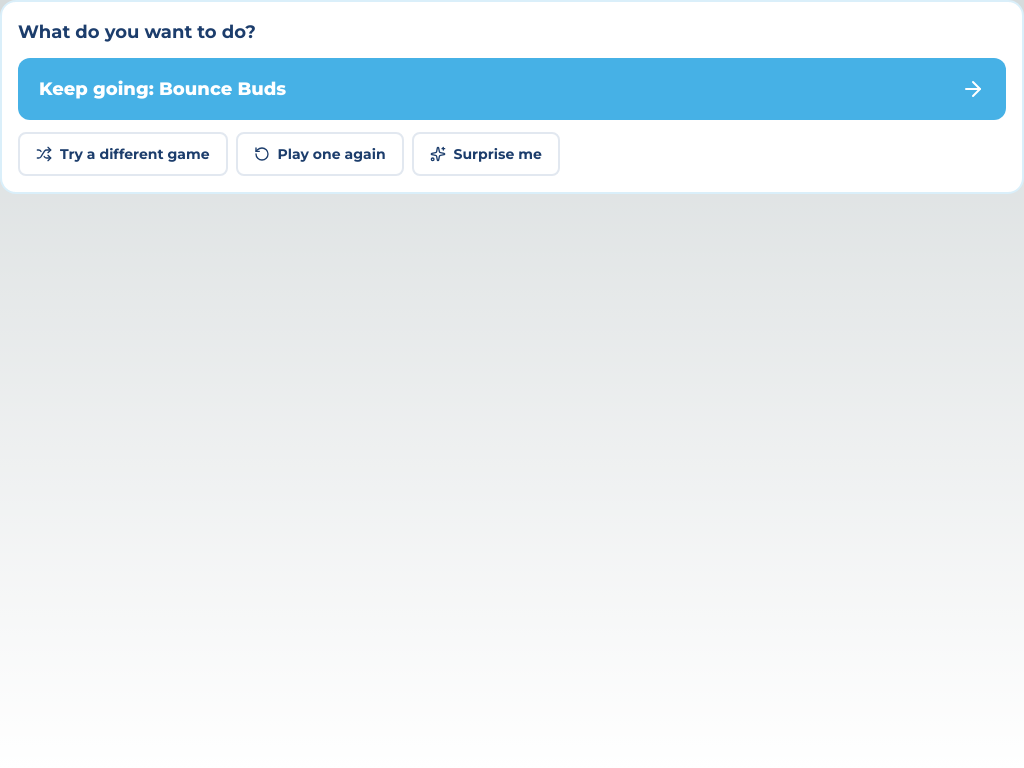
Test: navigation hierarchy › labels Revisit truthfully — replay, never an unsupported remix
The width and height of the screenshot is (1024, 768).
Click the button with test id "guided-revisit".
click(320, 154)  # box [236,132,404,176]
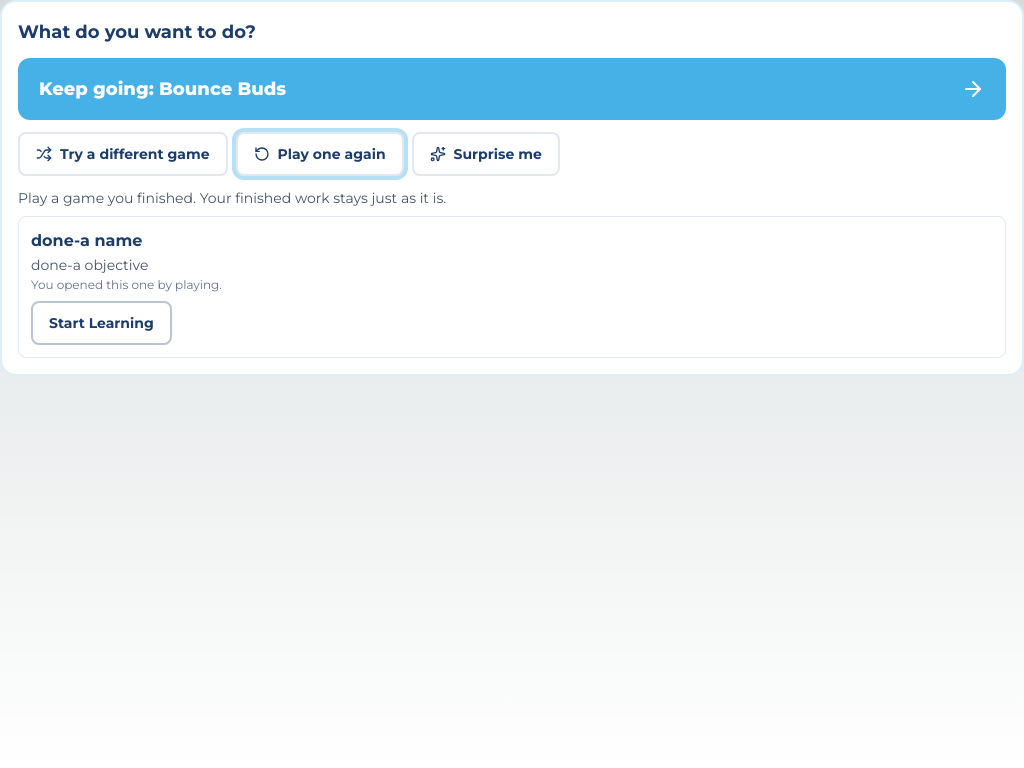
Check: the text "done-a name" is shown, box [31,231,142,250]
Check: the text "Your finished work stays just as it is" is shown, box [18,189,446,207]
